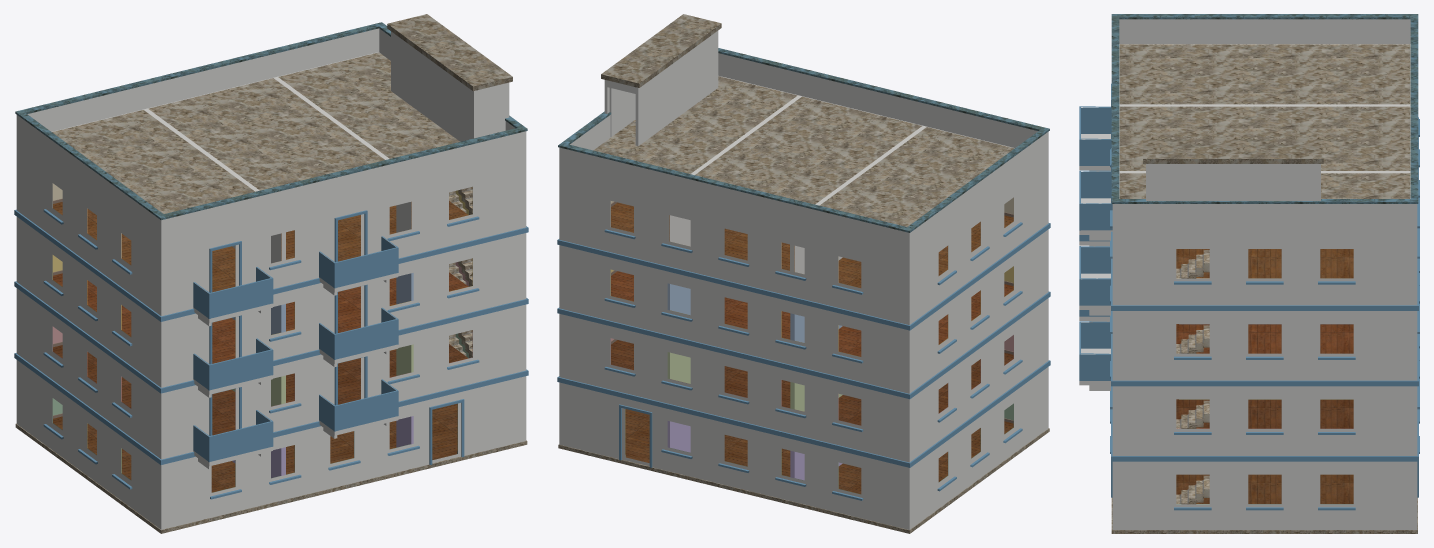
Rendered from bay-apartments.reveal-v1.lod0.glb.
3 renders of one model, left to right at view 1: azimuth 30°, elevation 25°; view 2: azimuth 150°, elevation 25°; view 3: azimuth 270°, elevation 25°, orthographic. The views are drawn at different scales.
Parts seen in each view (by area): view 1: bay-apartments; view 2: bay-apartments; view 3: bay-apartments.
Part boxes in pixels (left/top/right/bottom): bay-apartments: left=14, top=14, right=528, bottom=533; bay-apartments: left=557, top=14, right=1050, bottom=533; bay-apartments: left=1079, top=14, right=1419, bottom=533.
Bounding box in the file's own units: 16.2 × 14.97 × 12.32.
3 materials, 2 textured.
